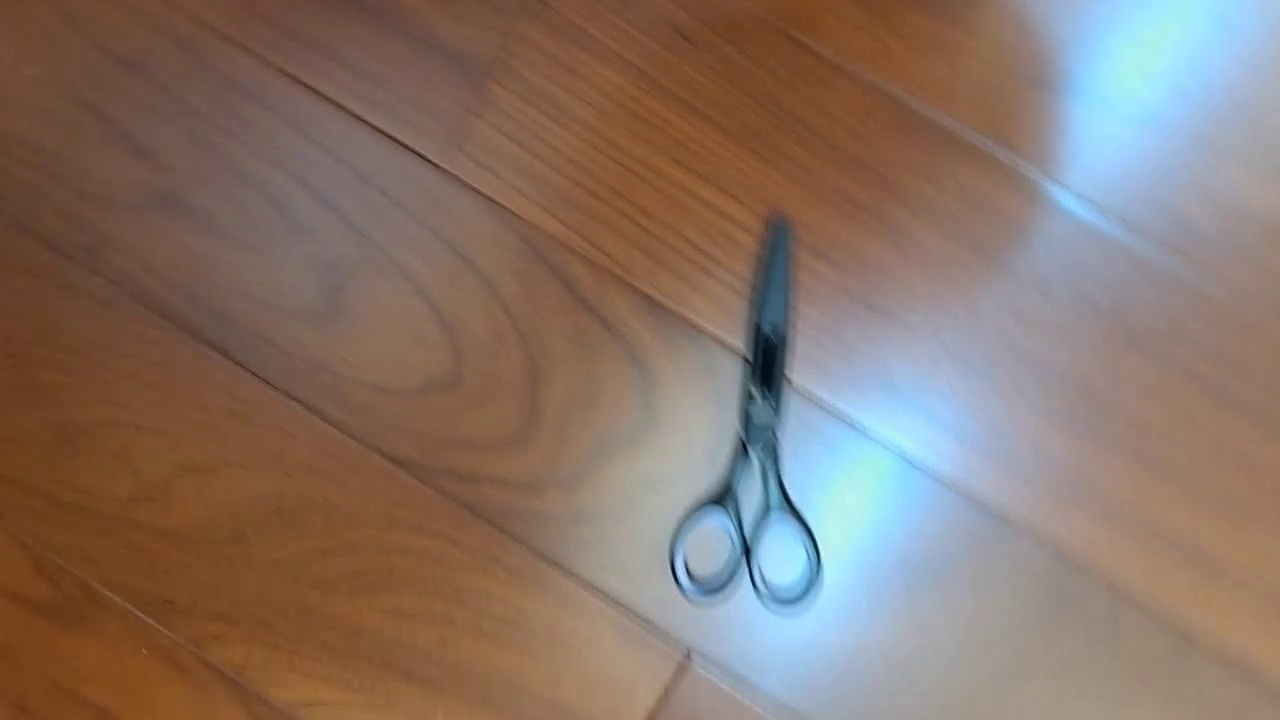scissors: (667, 211, 823, 618)
